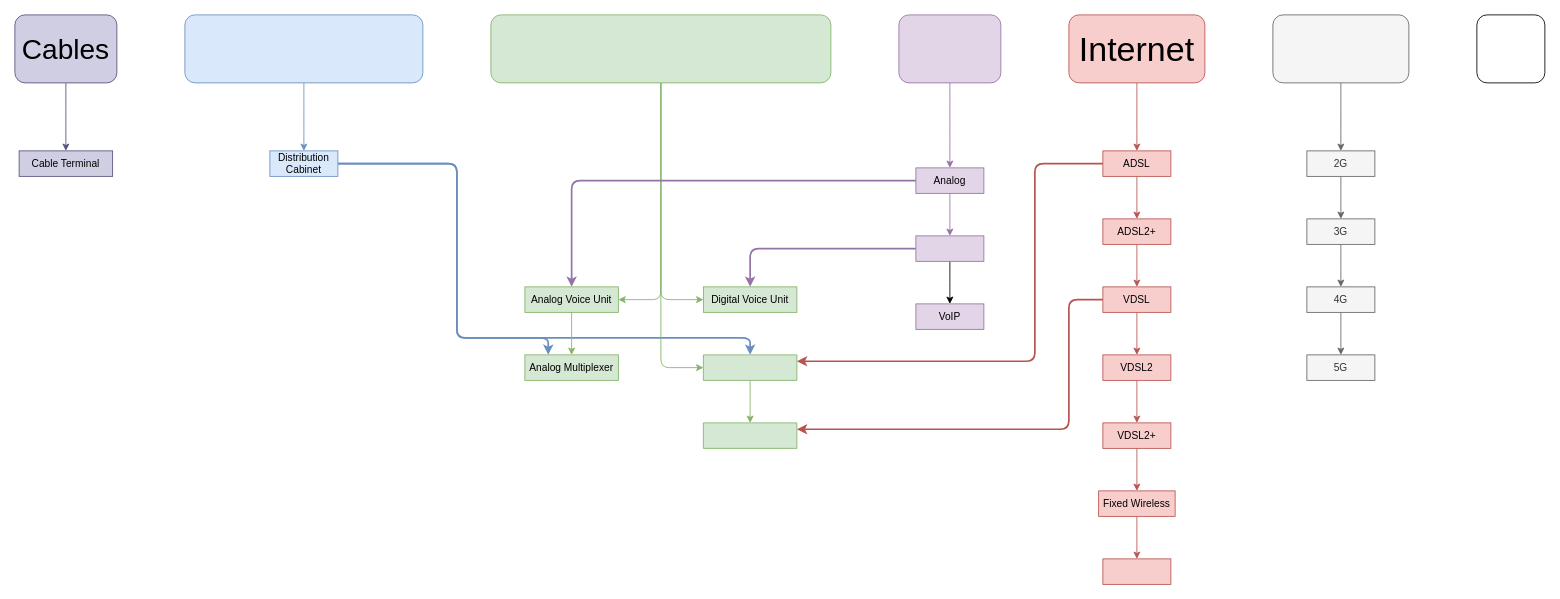
The diagram is 1560 pixels wide and 599 high, and some of its shapes have lost their labels. The shapes that lost their labels are listed below. From the top down, each one's box as (x1, y1, x2, y2) in pixels, then its label:
(184, 14, 423, 83): Infrastructure
(490, 14, 831, 83): Equipment
(898, 14, 1001, 83): Voice
(1272, 14, 1409, 83): Cellular
(1476, 14, 1545, 83): TV
(915, 235, 984, 261): Digital
(703, 354, 797, 380): DSLAM (ADSL)
(703, 422, 797, 448): MSAN (VDSL)
(1102, 558, 1171, 584): Satelite
